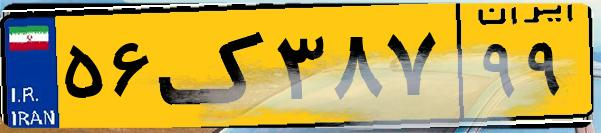3: (270, 28, 330, 110)
5: (57, 26, 110, 100)
6: (110, 28, 158, 98)
7: (385, 28, 445, 110)
8: (330, 28, 385, 110)
9: (475, 38, 525, 113), (525, 38, 570, 115)
ک: (158, 12, 270, 120)
